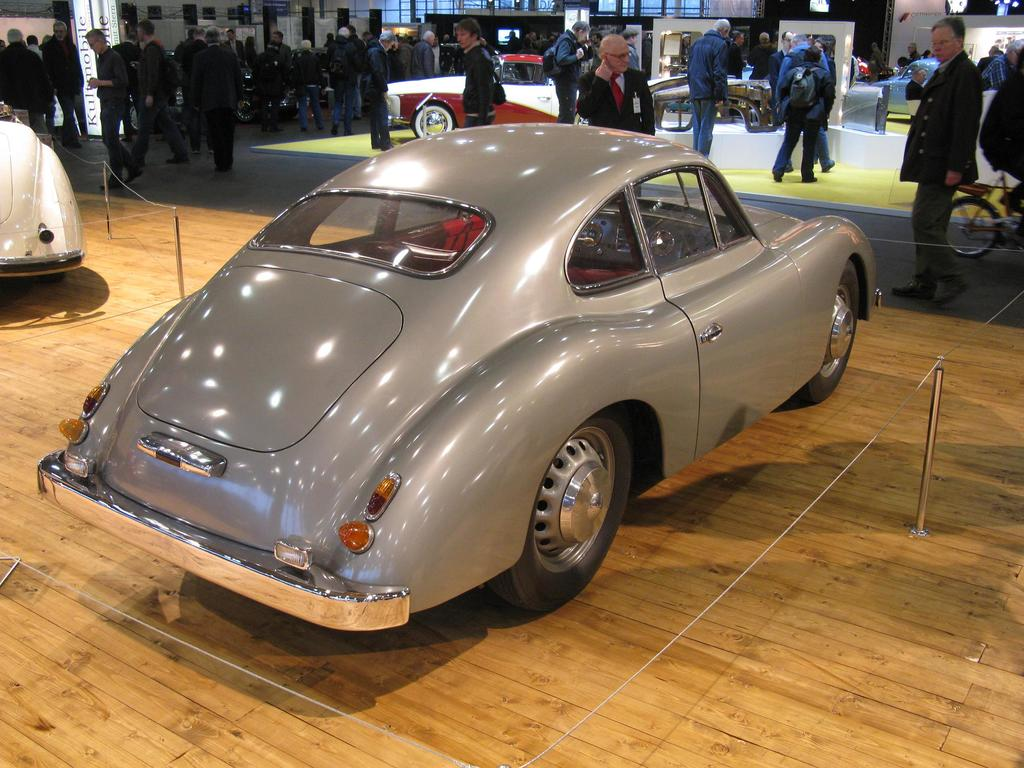Car: (40, 118, 882, 636), (384, 53, 586, 139), (0, 99, 85, 280), (871, 57, 978, 118), (234, 57, 310, 123), (128, 49, 183, 131), (437, 41, 522, 78), (290, 46, 327, 109), (664, 99, 692, 115), (856, 55, 869, 81), (880, 63, 893, 82)
